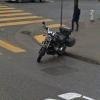Motorcycle: (35, 21, 78, 62)
